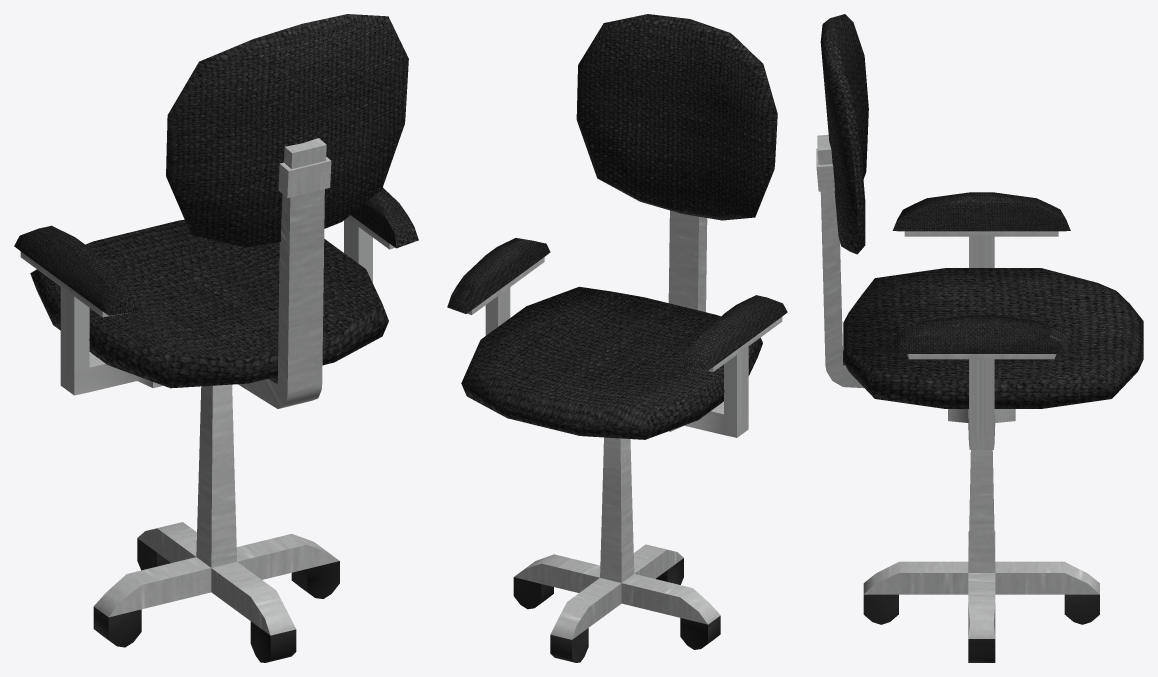
File: OfficeChair01.fbx
3 renders of one model, left to right at view 1: azimuth 30°, elevation 25°; view 2: azimuth 150°, elevation 25°; view 3: azimuth 270°, elevation 25°, orthographic. The views are drawn at different scales.
Parts seen in each view (by area): view 1: Cube.010; view 2: Cube.010; view 3: Cube.010.
Boxes of the visible parts, left/top/right/bottom form: Cube.010: left=14, top=14, right=418, bottom=662; Cube.010: left=447, top=14, right=787, bottom=662; Cube.010: left=816, top=14, right=1143, bottom=662.
Size of the model in its own units: 138 by 280 by 142.
